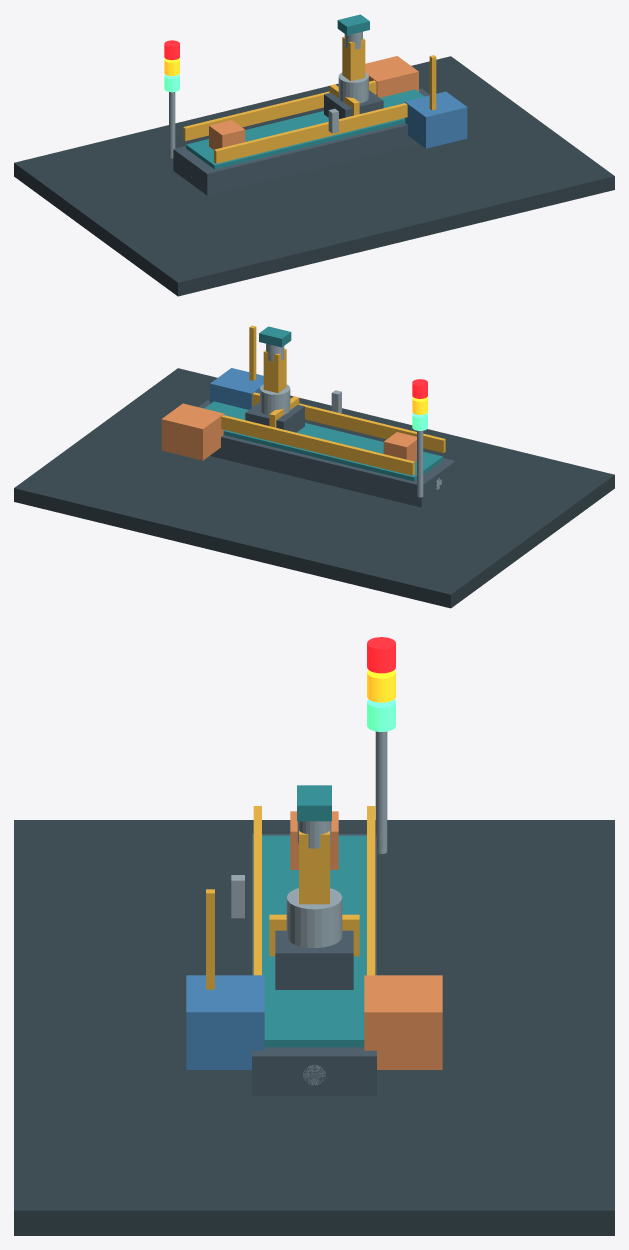
Rendered from smart-factory-cell.glb.
3 renders of one model, top to bottom at view 1: azimuth 30°, elevation 25°; view 2: azimuth 150°, elevation 25°; view 3: azimuth 270°, elevation 25°, orthographic. The views are drawn at different scales.
Visible parts, largest first — view 1: FactoryFloor, ConveyorFrame, ConveyorBelt, SafetyRailRight, GoodPartsBin, SafetyRailLeft, RejectBin, RobotArmLink, ProductCarton, RobotPedestal, RobotShoulder, RobotTool (+2 smaller); view 2: FactoryFloor, ConveyorFrame, SafetyRailLeft, ConveyorBelt, RejectBin, SafetyRailRight, GoodPartsBin, RobotPedestal, RobotArmLink, ProductCarton, RobotShoulder, RobotTool (+2 smaller); view 3: FactoryFloor, ConveyorBelt, RejectBin, GoodPartsBin, ConveyorFrame, RobotPedestal, RobotShoulder, RobotArmLink, StackLightPole, SafetyRailLeft, SafetyRailRight, RobotTool (+6 smaller).
Boxes of the visible parts, left/top/right/bottom form: FactoryFloor: left=14, top=56, right=614, bottom=296; ConveyorFrame: left=173, top=88, right=429, bottom=195; ConveyorBelt: left=186, top=89, right=424, bottom=169; SafetyRailRight: left=214, top=103, right=407, bottom=163; GoodPartsBin: left=404, top=91, right=467, bottom=148; SafetyRailLeft: left=183, top=80, right=376, bottom=140; RejectBin: left=365, top=56, right=418, bottom=97; RobotArmLink: left=342, top=36, right=365, bottom=81; ProductCarton: left=209, top=120, right=245, bottom=149; RobotPedestal: left=324, top=90, right=383, bottom=118; RobotShoulder: left=338, top=72, right=368, bottom=103; RobotTool: left=337, top=14, right=369, bottom=35; FactoryFloor: left=14, top=368, right=614, bottom=608; ConveyorFrame: left=198, top=400, right=455, bottom=507; SafetyRailLeft: left=221, top=415, right=414, bottom=475; ConveyorBelt: left=204, top=401, right=442, bottom=481; RejectBin: left=161, top=403, right=224, bottom=460; SafetyRailRight: left=252, top=392, right=445, bottom=452; GoodPartsBin: left=210, top=368, right=263, bottom=409; RobotPedestal: left=245, top=402, right=304, bottom=432; RobotArmLink: left=263, top=348, right=286, bottom=392; ProductCarton: left=383, top=432, right=416, bottom=461; RobotShoulder: left=260, top=384, right=290, bottom=415; RobotTool: left=259, top=326, right=291, bottom=347; FactoryFloor: left=14, top=820, right=614, bottom=1235; ConveyorBelt: left=262, top=835, right=366, bottom=1047; RejectBin: left=364, top=975, right=442, bottom=1069; GoodPartsBin: left=186, top=975, right=264, bottom=1069; ConveyorFrame: left=252, top=834, right=376, bottom=1095; RobotPedestal: left=275, top=930, right=353, bottom=989; RobotShoulder: left=286, top=888, right=342, bottom=947; RobotArmLink: left=299, top=831, right=329, bottom=904; StackLightPole: left=375, top=731, right=387, bottom=853; SafetyRailLeft: left=367, top=806, right=375, bottom=975; SafetyRailRight: left=253, top=806, right=261, bottom=975; RobotTool: left=297, top=785, right=331, bottom=821.
Size of the model in its own units: 8 by 2.74 by 5.2.
